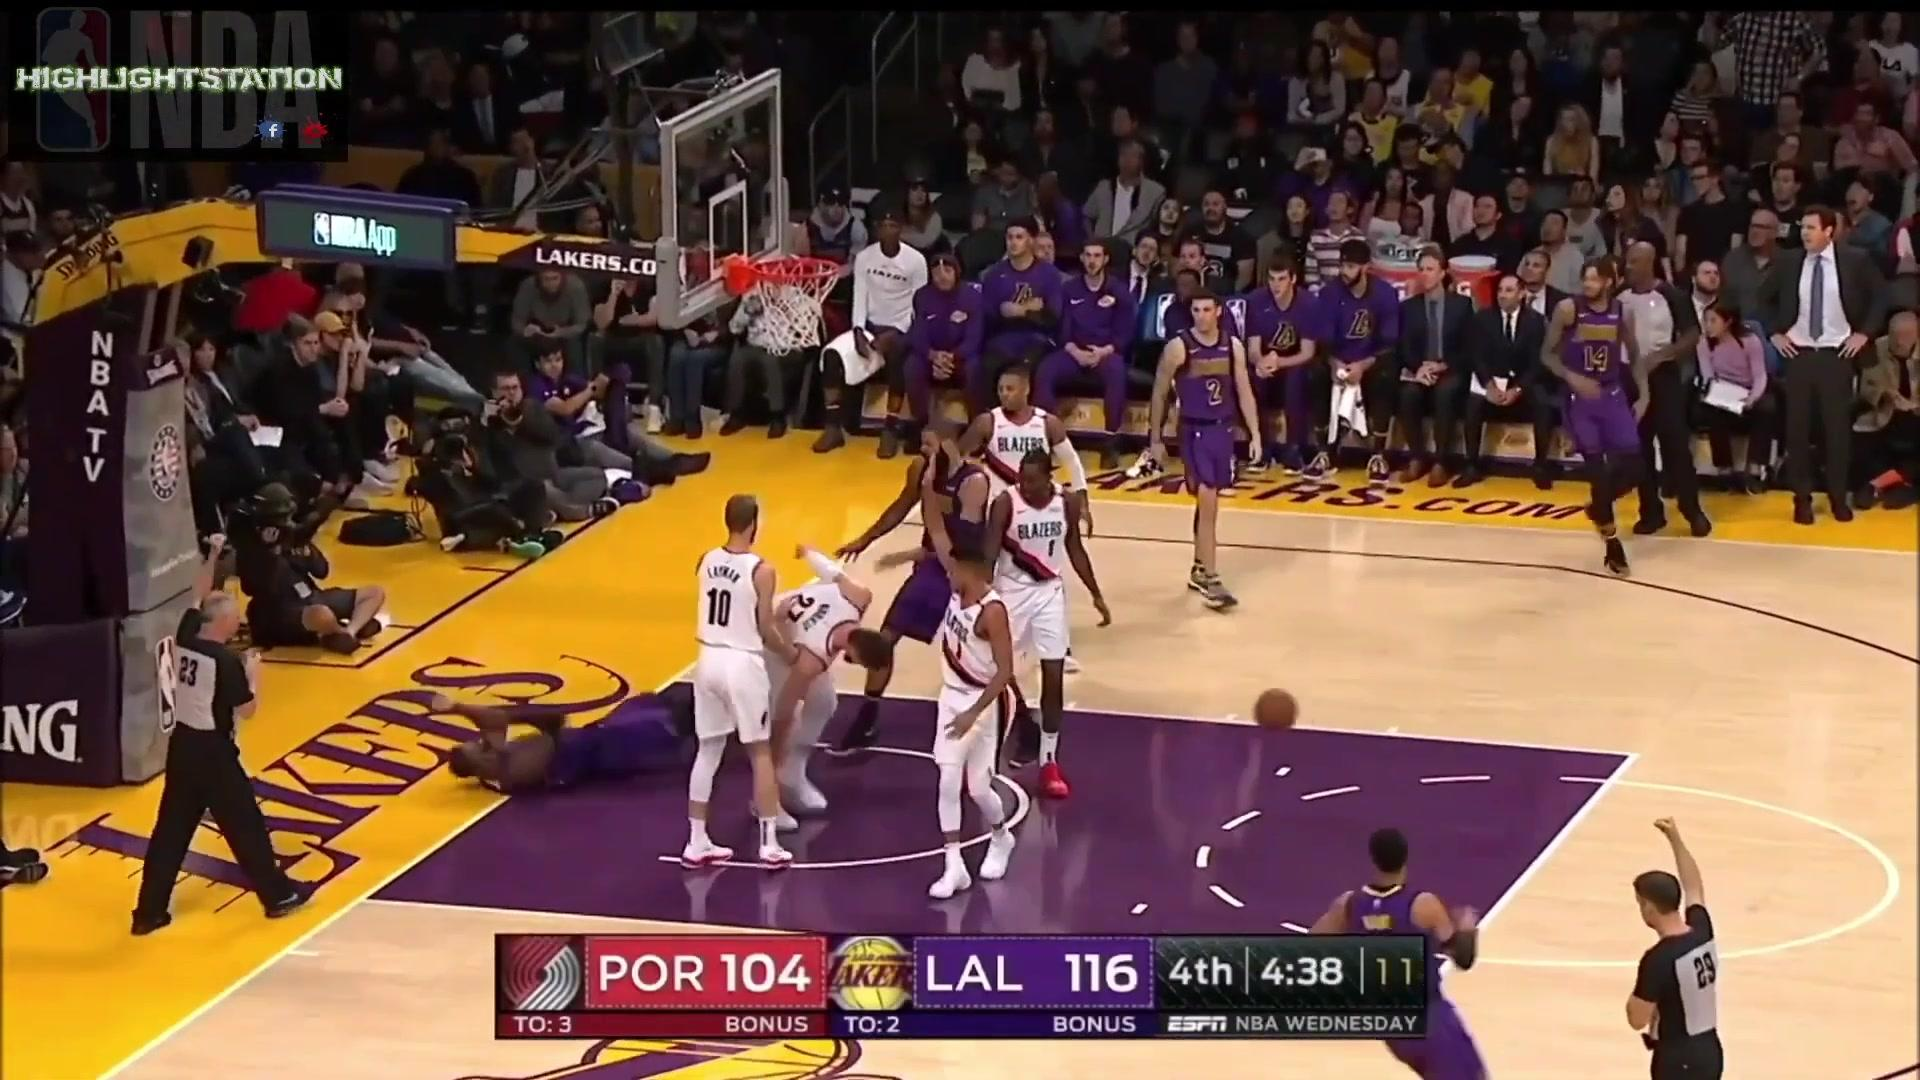no_foul: (781, 398, 959, 802)
